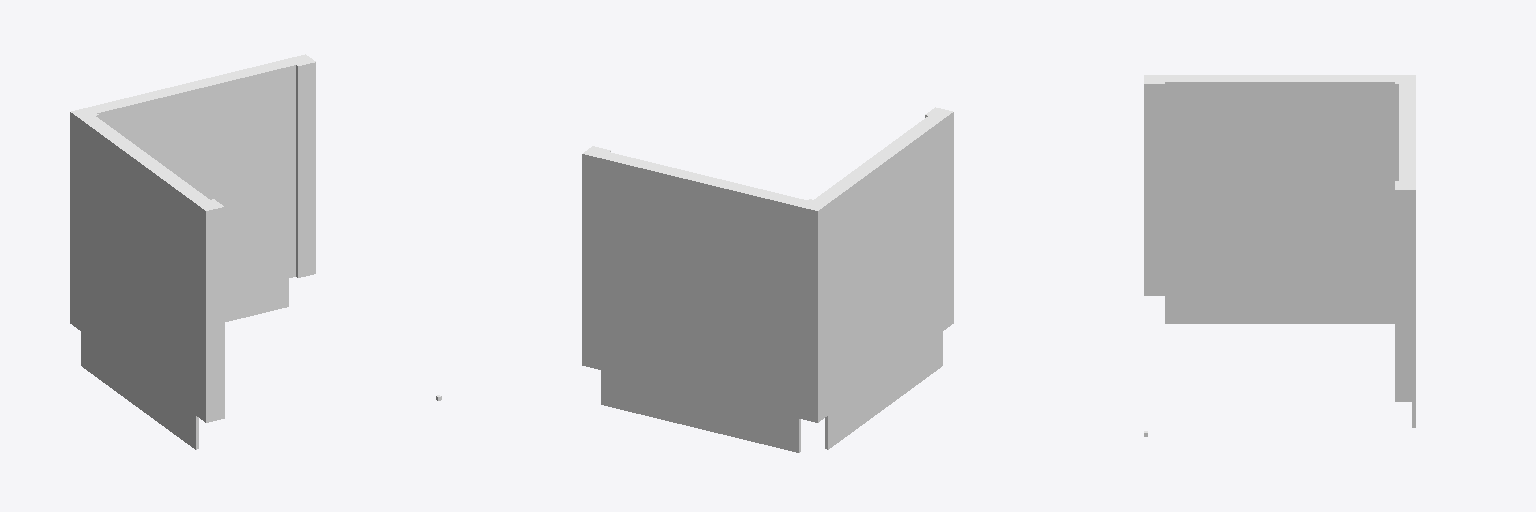
The model's file is Wall-0110.obj.
The picture shows the model from 3 angles: view 1: azimuth 30°, elevation 25°; view 2: azimuth 150°, elevation 25°; view 3: azimuth 270°, elevation 25°; orthographic projection.
Size of the model in its own units: 64 by 64 by 64.